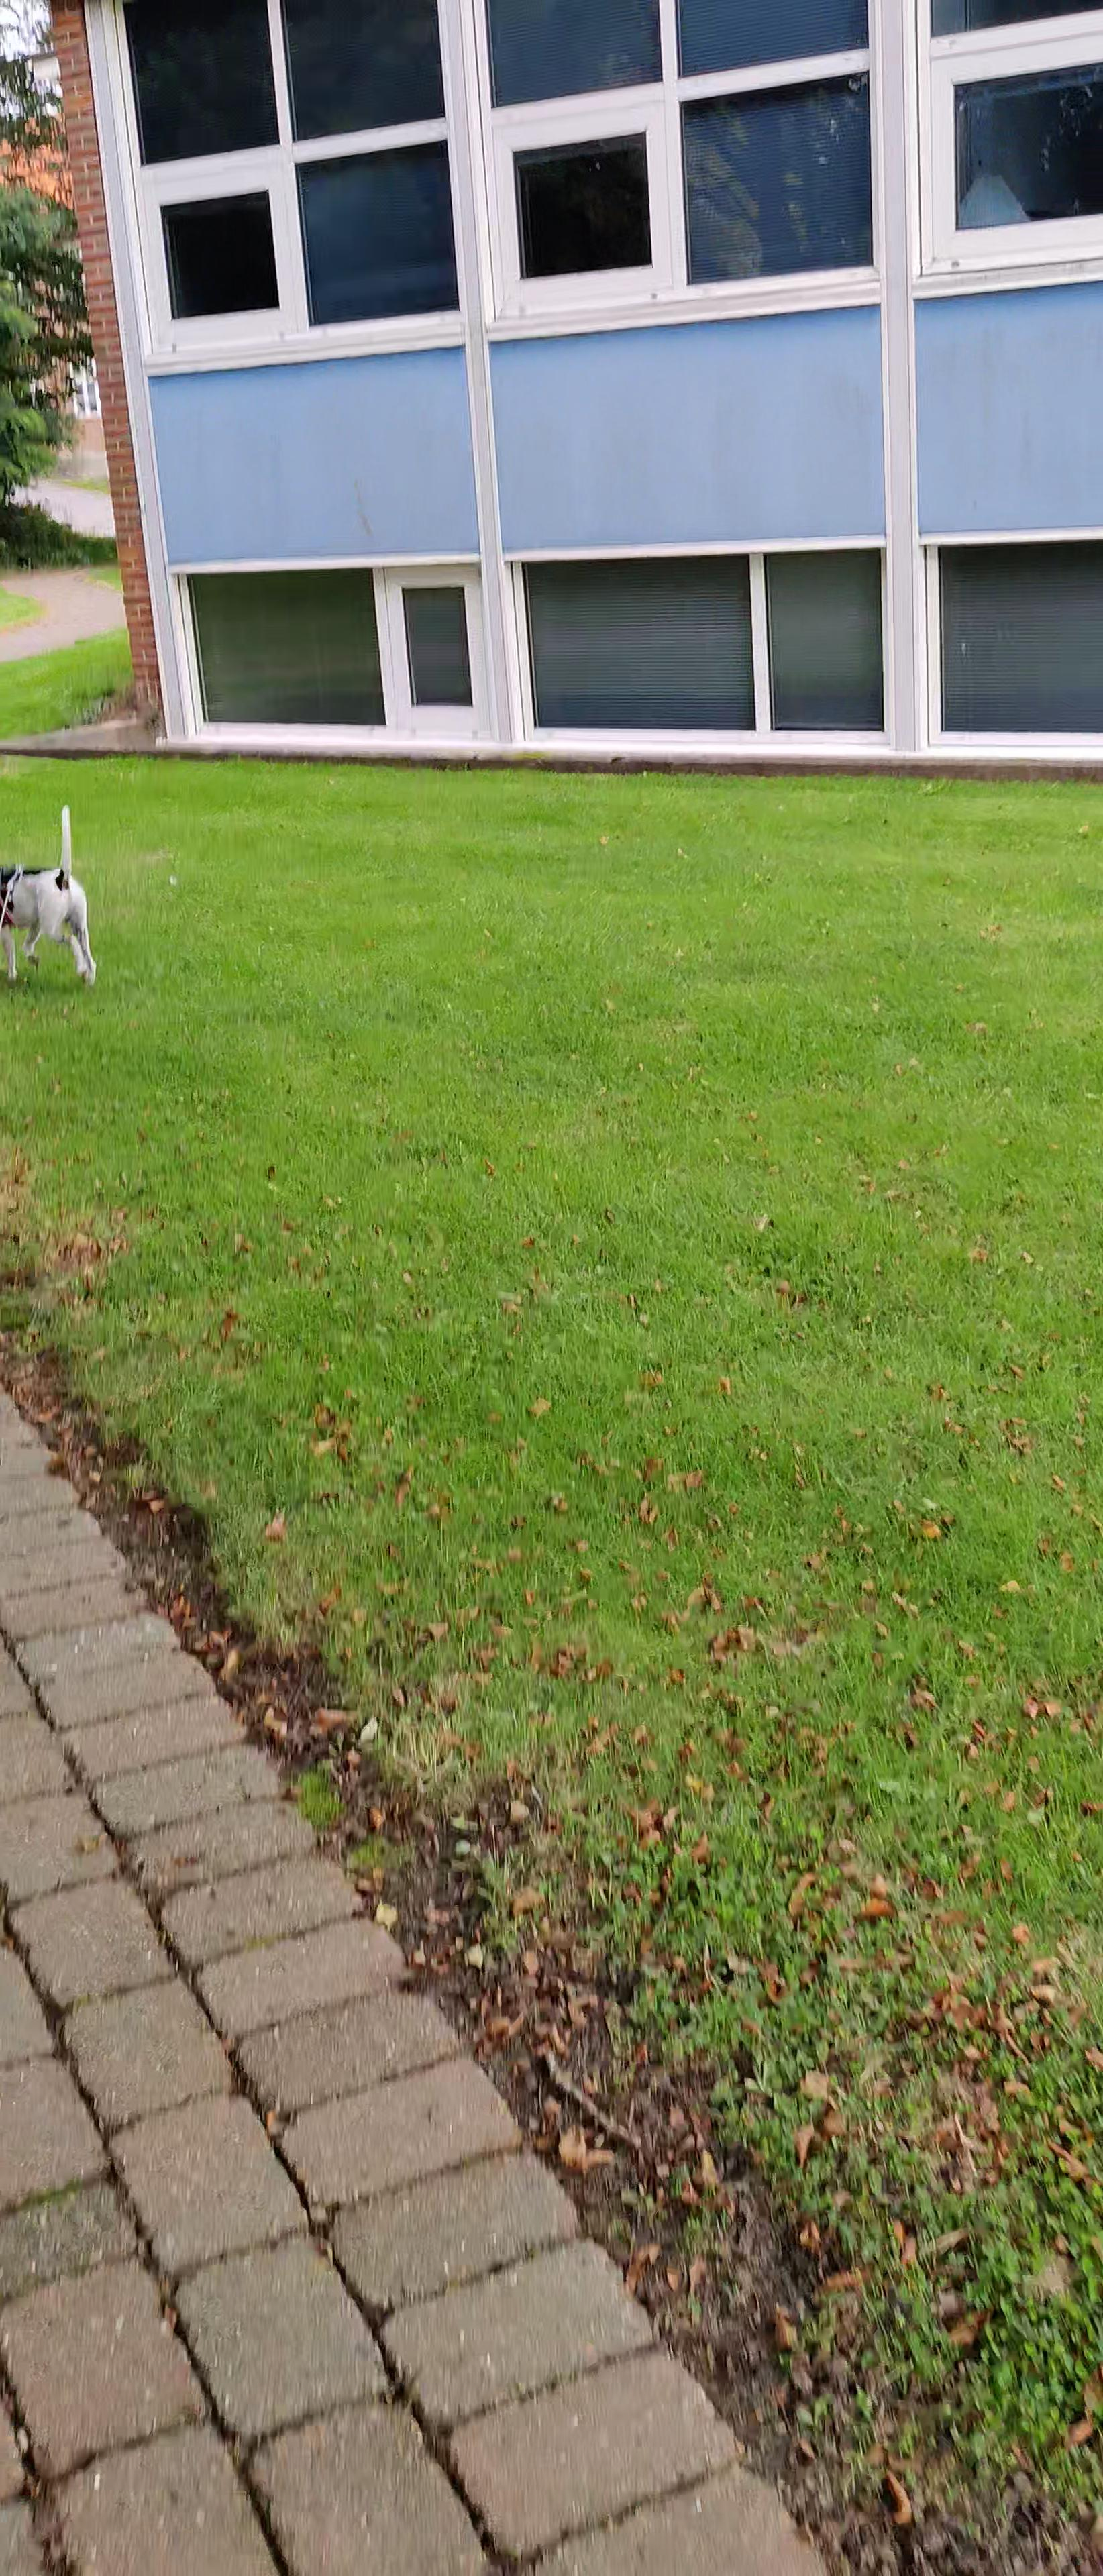Dog: (0, 779, 107, 1002)
